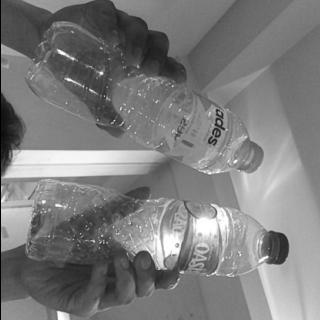plastic_bottles: (29, 18, 263, 174), (37, 182, 290, 276)
